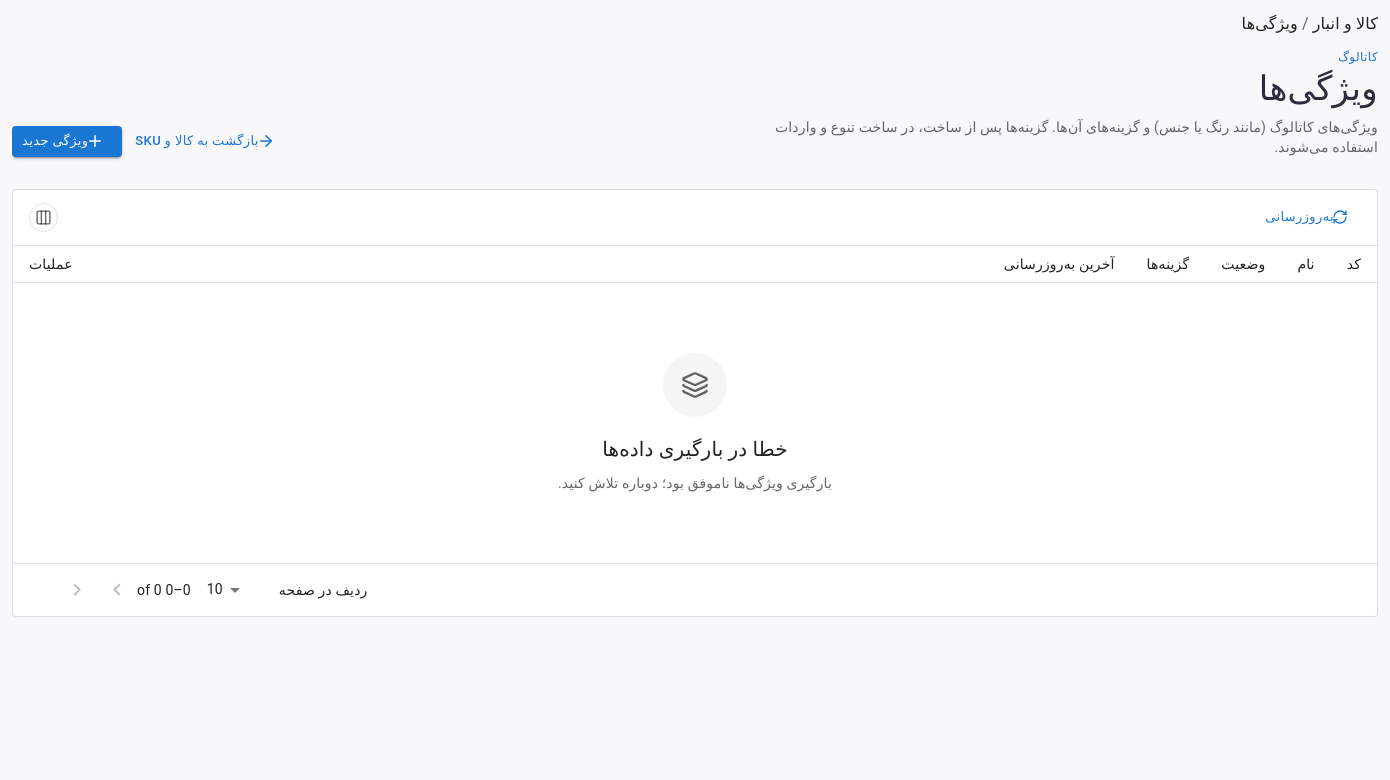
Test: AttributesView › surfaces a load failure and reloads on refresh
Check: the text "بارگیری ویژگی‌ها ناموفق بود؛ دوباره تلاش کنید." is shown, box [558,473,832,493]
Click the button "به‌روزرسانی" at [1311, 217], box [1260,202,1361,233]
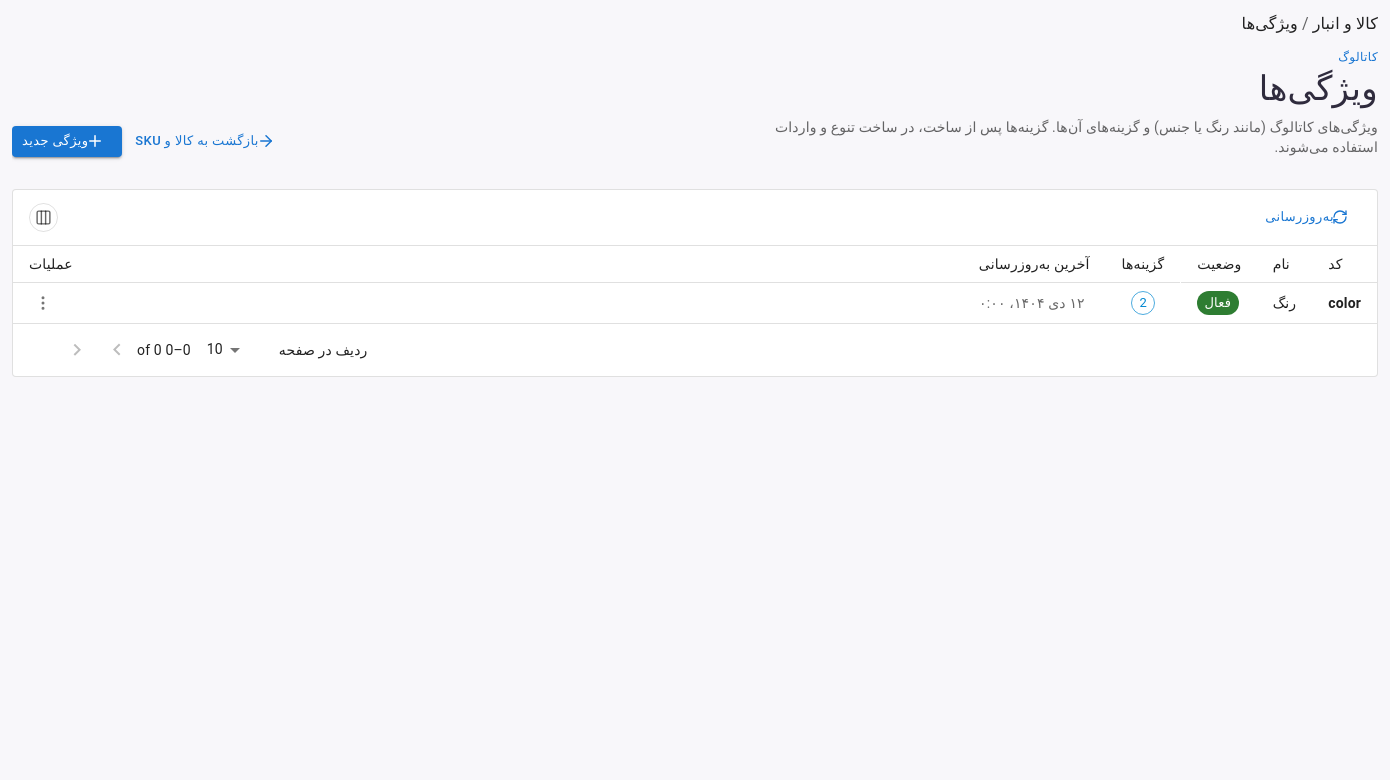
Check: the text "رنگ" is shown, box [1273,293,1296,313]
